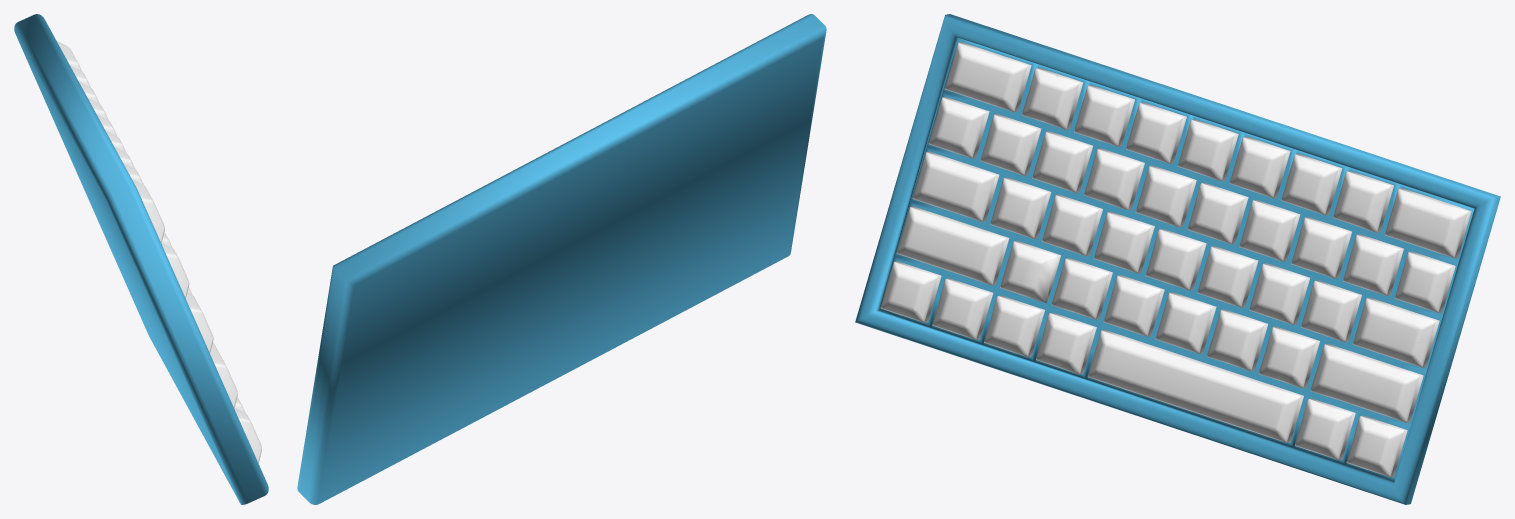
Rendered from Keyboard.glb.
3 renders of one model, left to right at view 1: azimuth 30°, elevation 25°; view 2: azimuth 150°, elevation 25°; view 3: azimuth 270°, elevation 25°, orthographic. The views are drawn at different scales.
Visible parts, largest first — view 1: keyboard/color, keys/glass; view 2: keyboard/color; view 3: keys/glass, keyboard/color.
Boxes of the visible parts, <box> form: keyboard/color: <box>14,14,268,504</box>; keys/glass: <box>57,41,261,462</box>; keyboard/color: <box>297,14,826,504</box>; keys/glass: <box>880,42,1471,477</box>; keyboard/color: <box>855,14,1500,504</box>.
Size of the model in its own units: 1.34 by 1.63 by 2.61.
